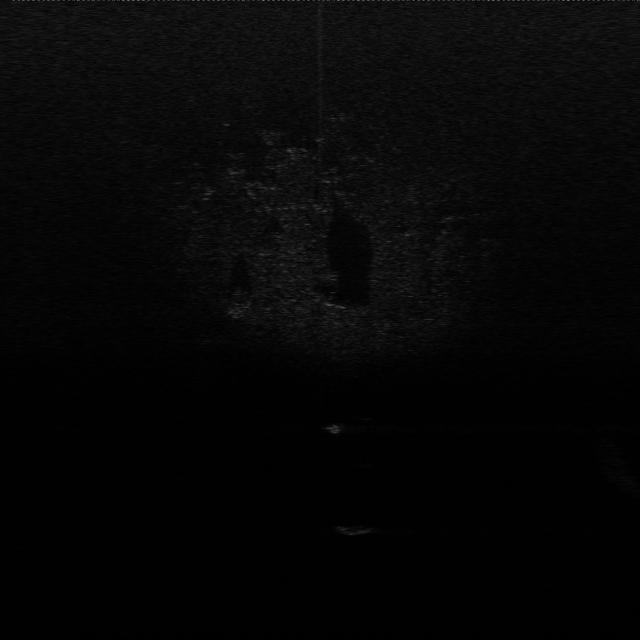cube: (334, 512, 384, 538)
square cage: (322, 416, 352, 436)
